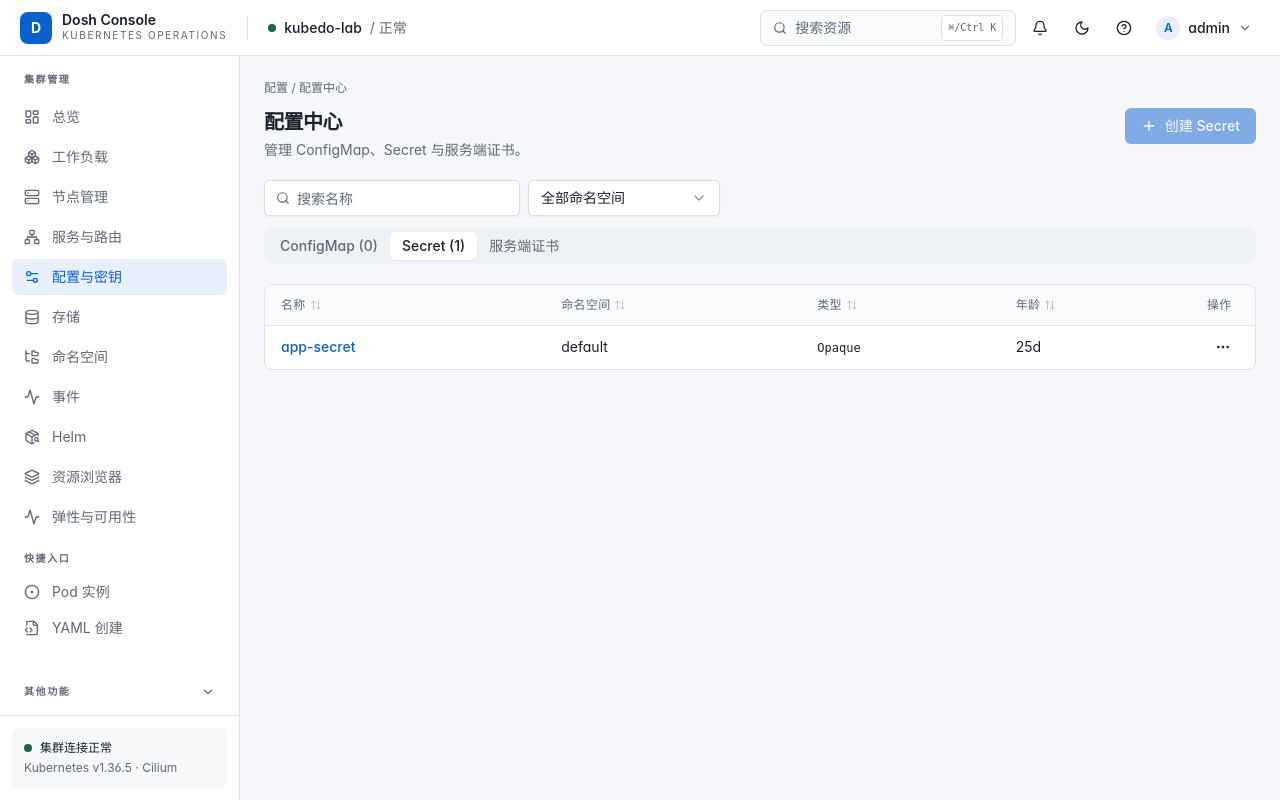
dosh application › shows Secret YAML with original data and allows editing
expect the cell "app-secret" is shown: met, box [265,325,545,369]
Press the mouse on the button named "操作 Secret default/app-secret" at (1223, 347), box [1207,331,1239,363]
Click the button named "操作 Secret default/app-secret" at (1223, 347), box [1207,331,1239,363]
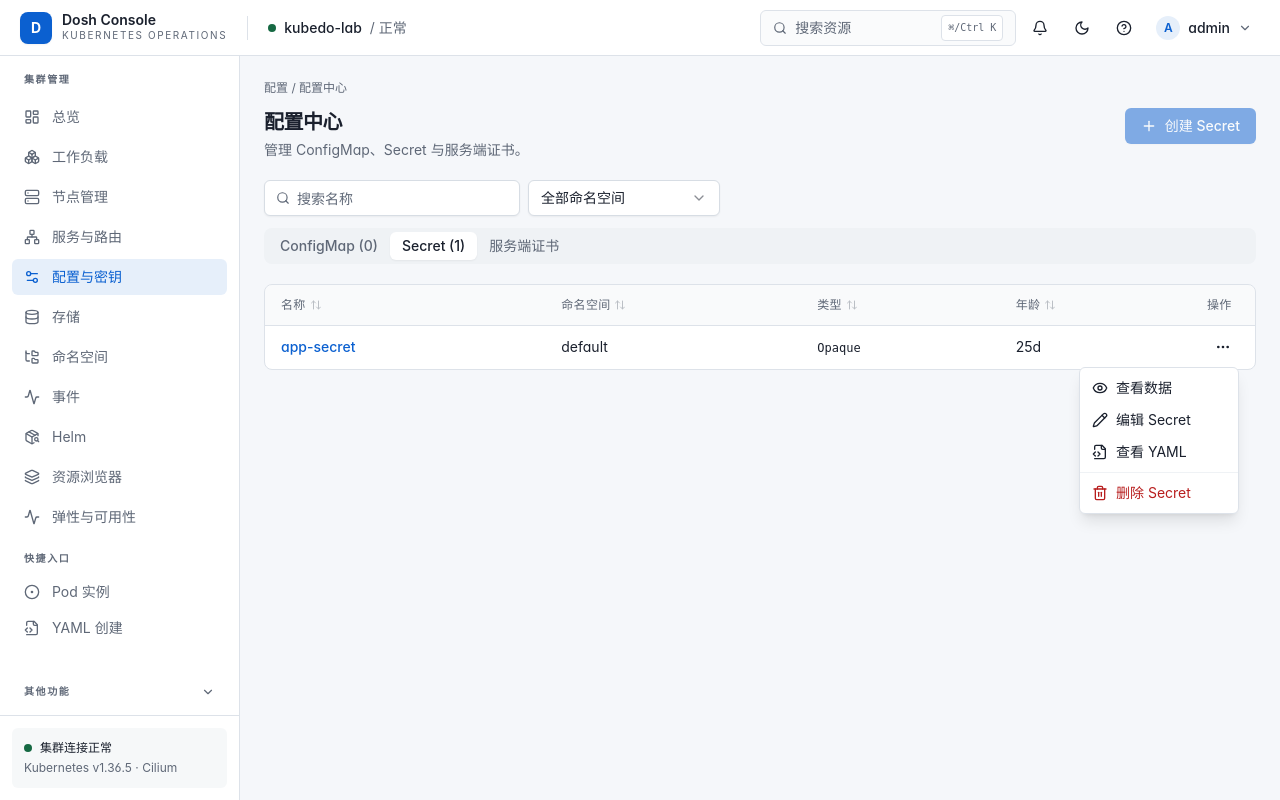
Click the menu item "查看 YAML" at (1139, 452), box [1092,443,1187,460]
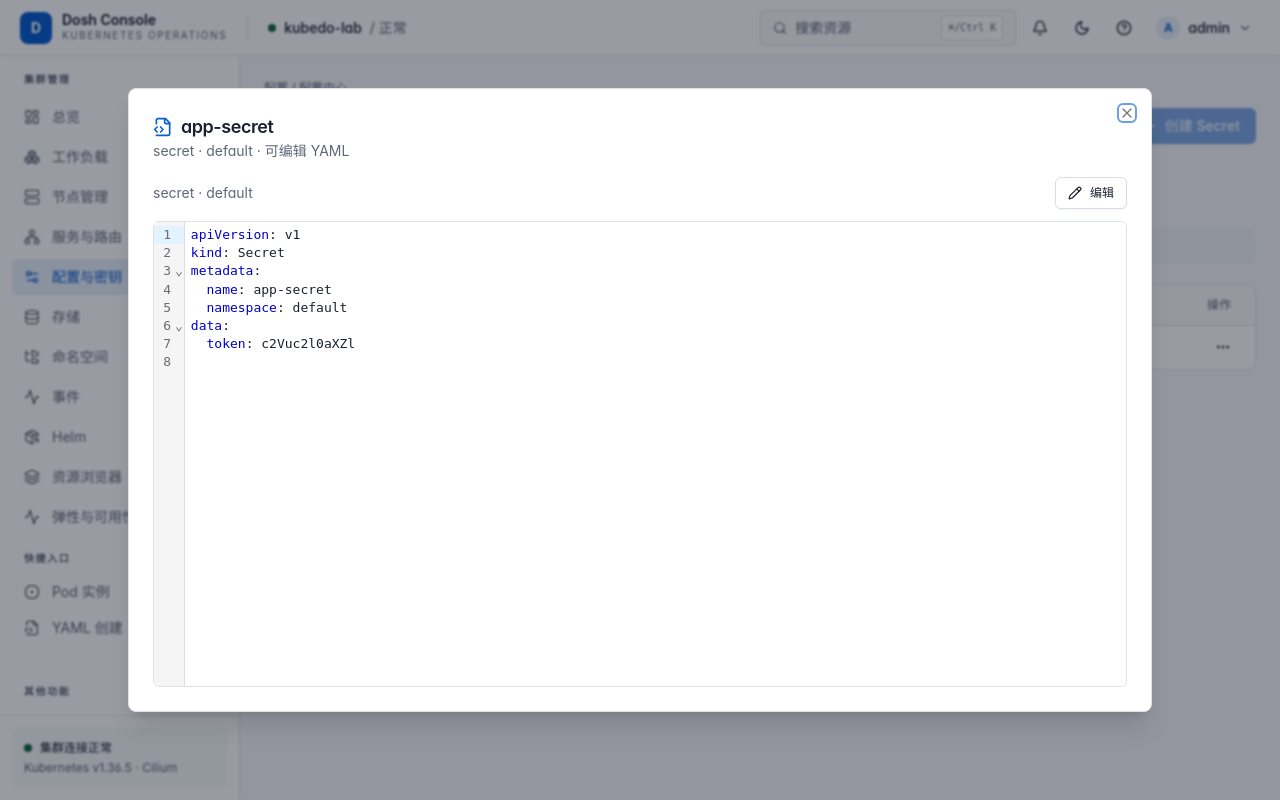
expect the text "secret · default · 可编辑 YAML" is shown: met, box [153,141,349,161]
expect the button "编辑" is shown: met, box [1055,177,1127,209]
expect the text "token: c2Vuc2l0aXZl" is shown: met, box [206,336,355,351]
